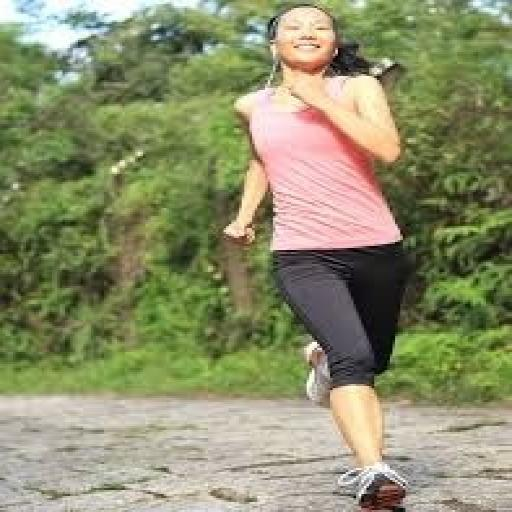running: (218, 2, 418, 510)
